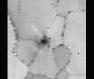good_void: (38, 32, 52, 49)
